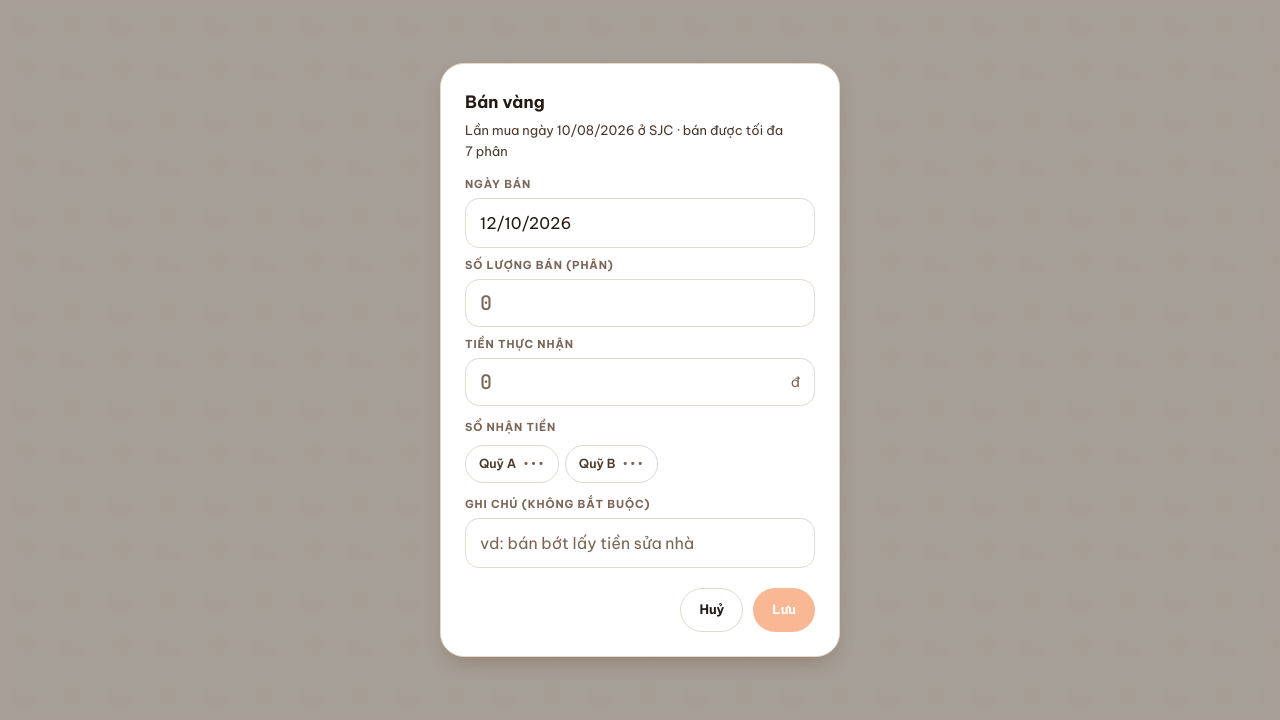
it: MetalSaleModal › hides the money in the preview while money is hidden
Type "2" into the field labelled "Số lượng bán (phân)".
click(640, 303); type("2")  # box [480,280,800,326]
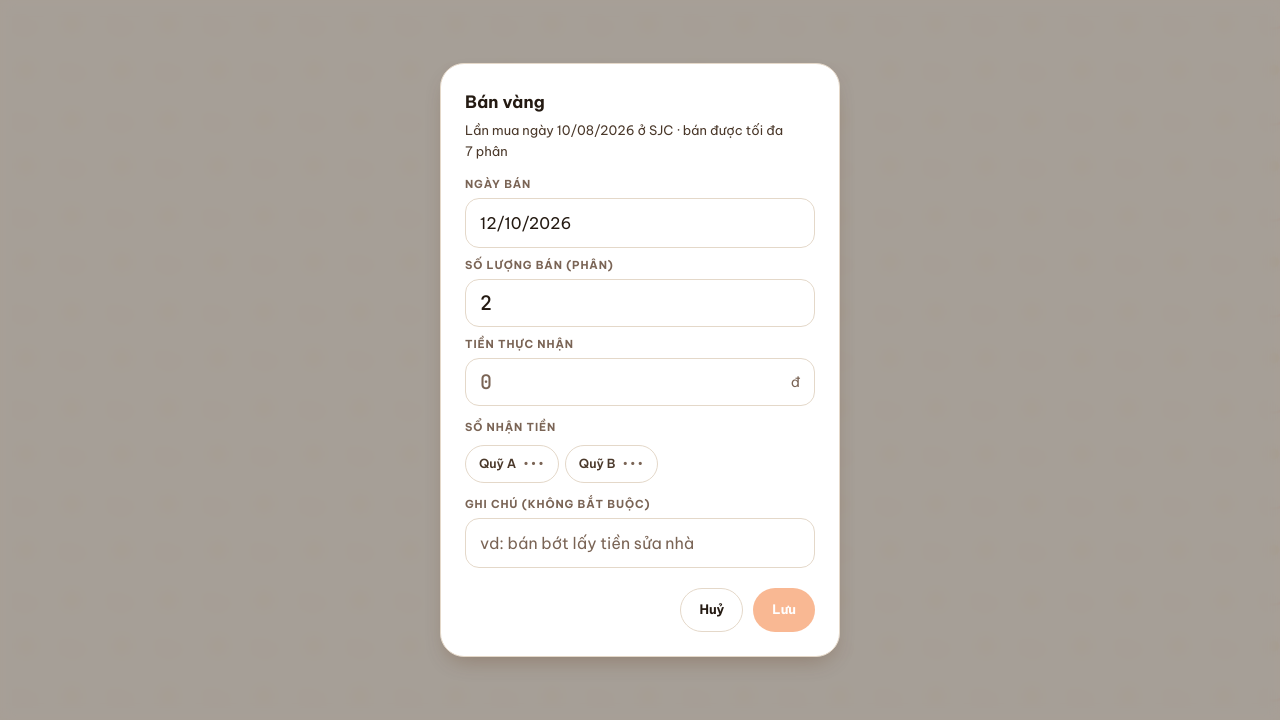
Type "1900000" into the field labelled "Tiền thực nhận".
click(631, 382); type("1900000")  # box [480,359,783,405]
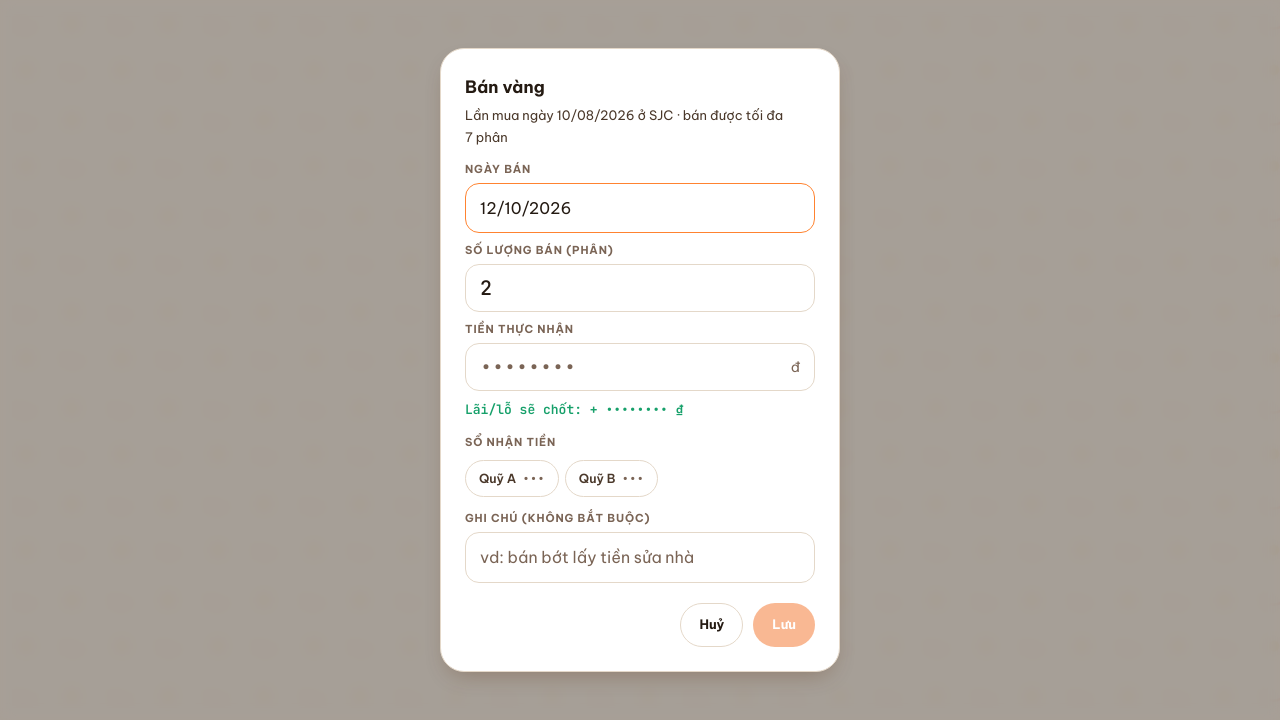
Expected: the text "Lãi/lỗ sẽ chốt: + •••••••• ₫" is shown, [465,401,683,418]
